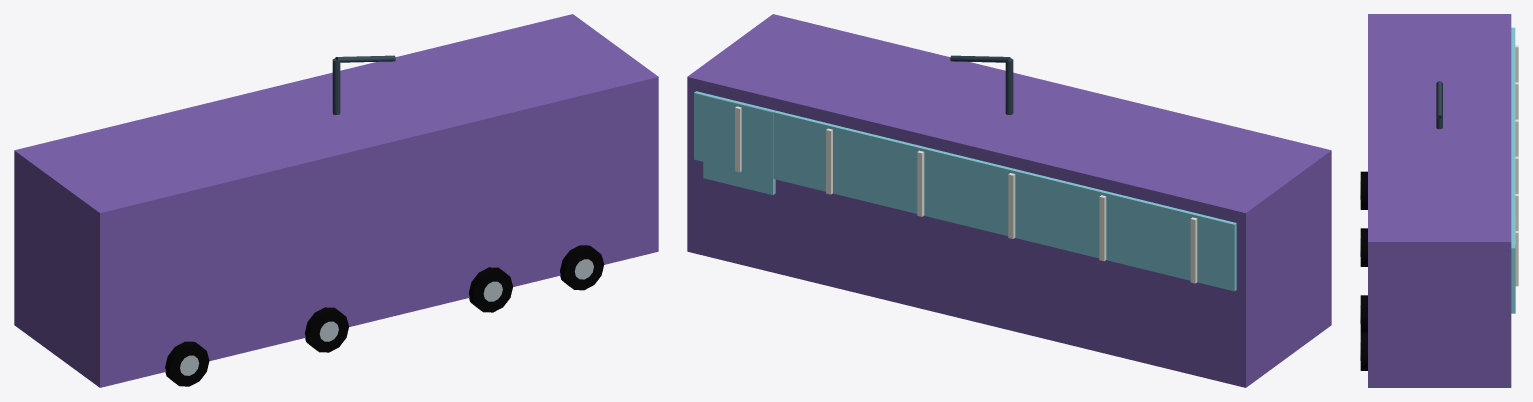
The picture shows the model from 3 angles, left to right: view 1: azimuth 30°, elevation 25°; view 2: azimuth 150°, elevation 25°; view 3: azimuth 270°, elevation 25°; orthographic projection. The views are drawn at different scales.
Visible parts, largest first — view 1: tram-body, wheel (×4); view 2: tram-body, tram-window-band, front-window; view 3: tram-body, tram-window-band, wheel (×4), window-post (×5), beam.
Boxes of the visible parts, bbox=[...] form: tram-body: bbox=[14, 14, 658, 387]; wheel (×4): bbox=[165, 245, 604, 386]; tram-body: bbox=[687, 14, 1331, 387]; tram-window-band: bbox=[694, 91, 1236, 291]; front-window: bbox=[703, 95, 775, 194]; tram-body: bbox=[1368, 14, 1511, 387]; tram-window-band: bbox=[1511, 27, 1515, 303]; wheel (×4): bbox=[1360, 171, 1367, 370]; window-post (×5): bbox=[1515, 45, 1518, 286]; beam: bbox=[1437, 81, 1442, 119].
Bounding box in the file's own units: 9.2 × 3.89 × 2.71.
